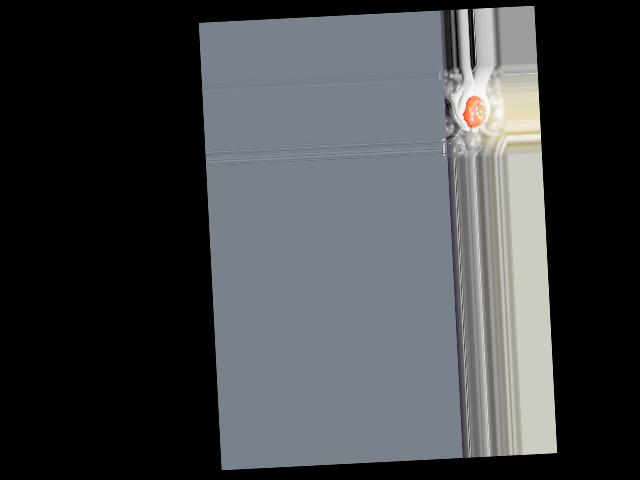tomato: (461, 94, 487, 127)
